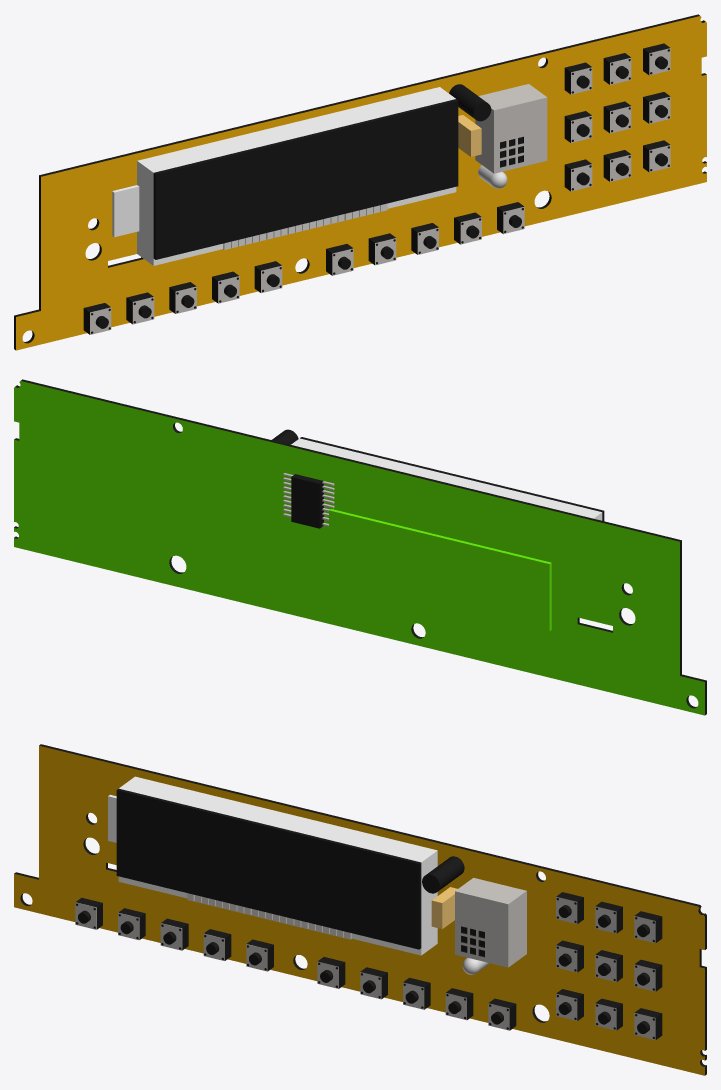
File: uydu10.glb
3 views of the same model, one above another, from view 1: azimuth 30°, elevation 25°; view 2: azimuth 150°, elevation 25°; view 3: azimuth 330°, elevation 25° (orthographic).
Visible parts, largest first — view 1: Part3 (×9); view 2: Part3 (×6); view 3: Part3 (×8).
Boxes of the visible parts, bbox=[...] form: Part3 (×9): bbox=[14, 14, 706, 350]; Part3 (×6): bbox=[14, 379, 706, 715]; Part3 (×8): bbox=[14, 744, 706, 1075].
Bounding box in the file's own units: 0.194 × 0.045 × 0.015.
